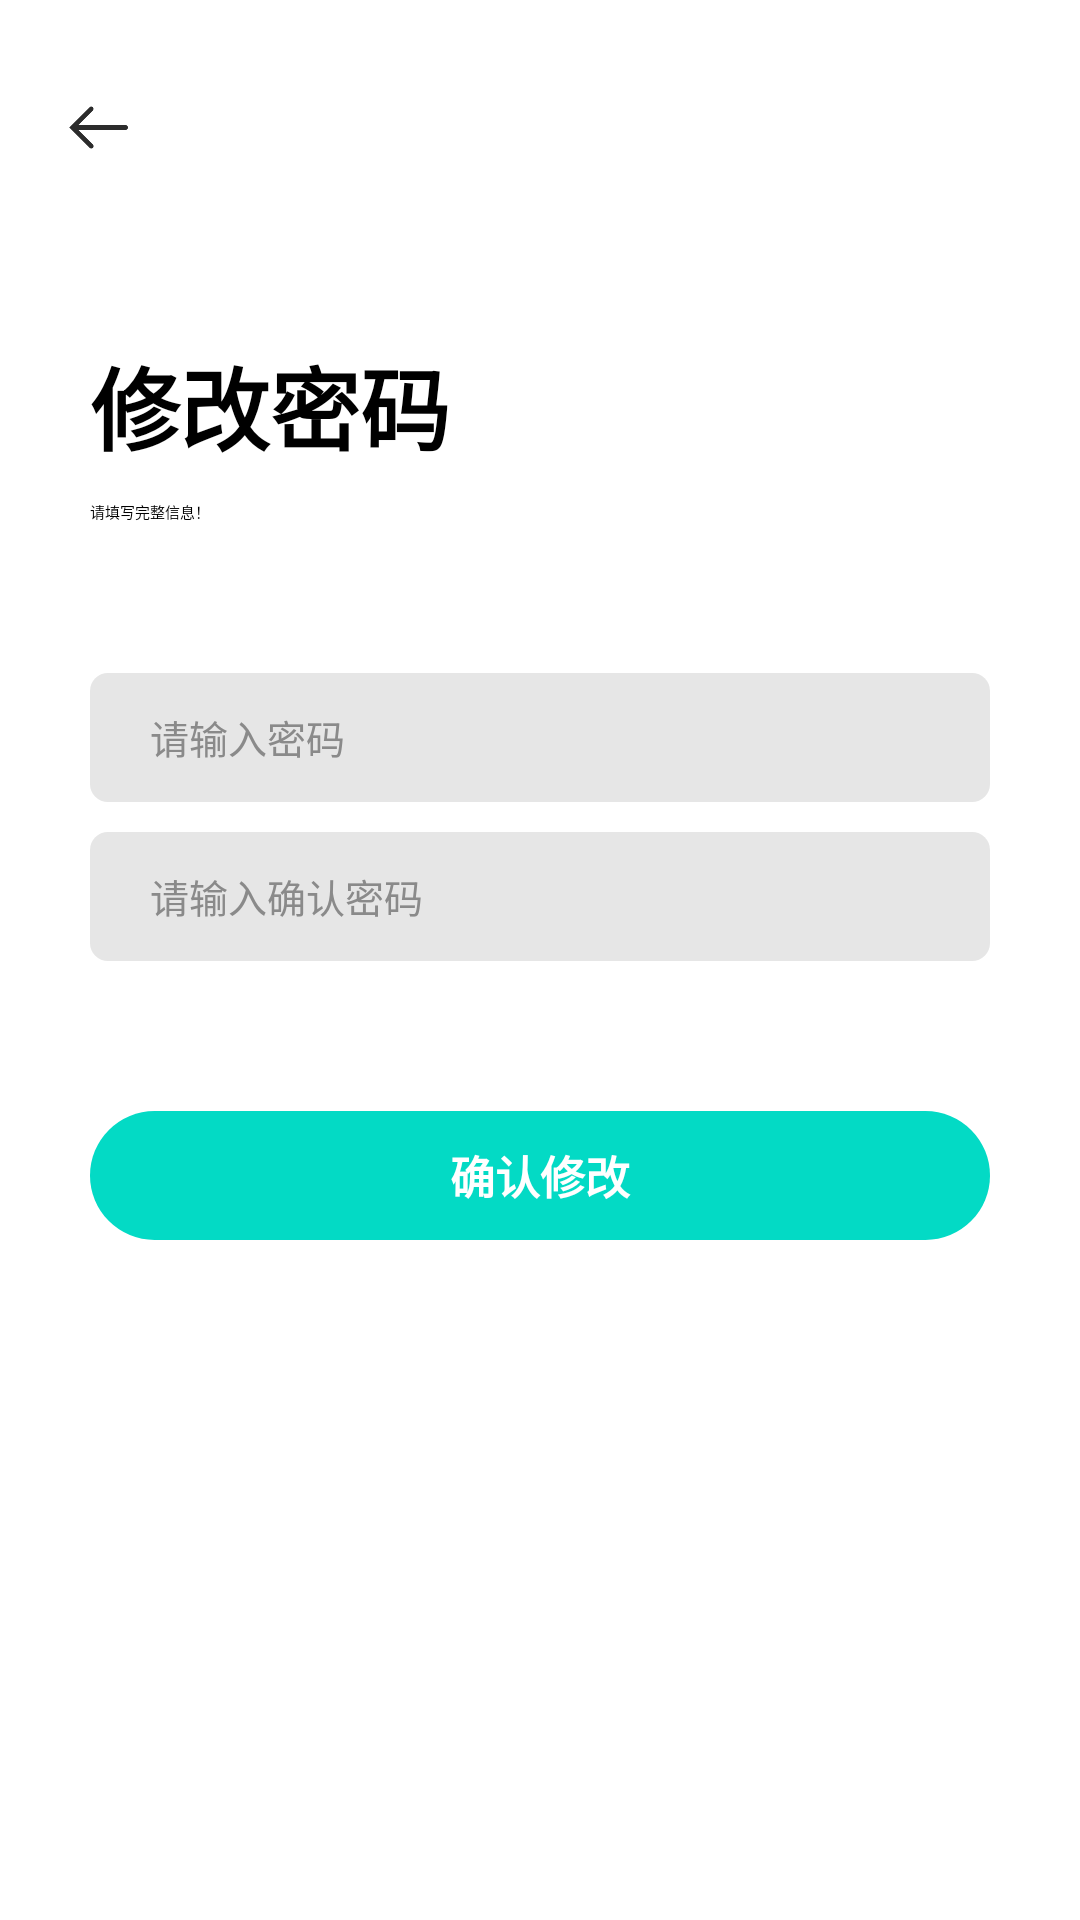

Named icons in this screenshot (1080px×1920px) and their centers, (x=x, y=y):
zuojiantou: (x=98, y=127)
